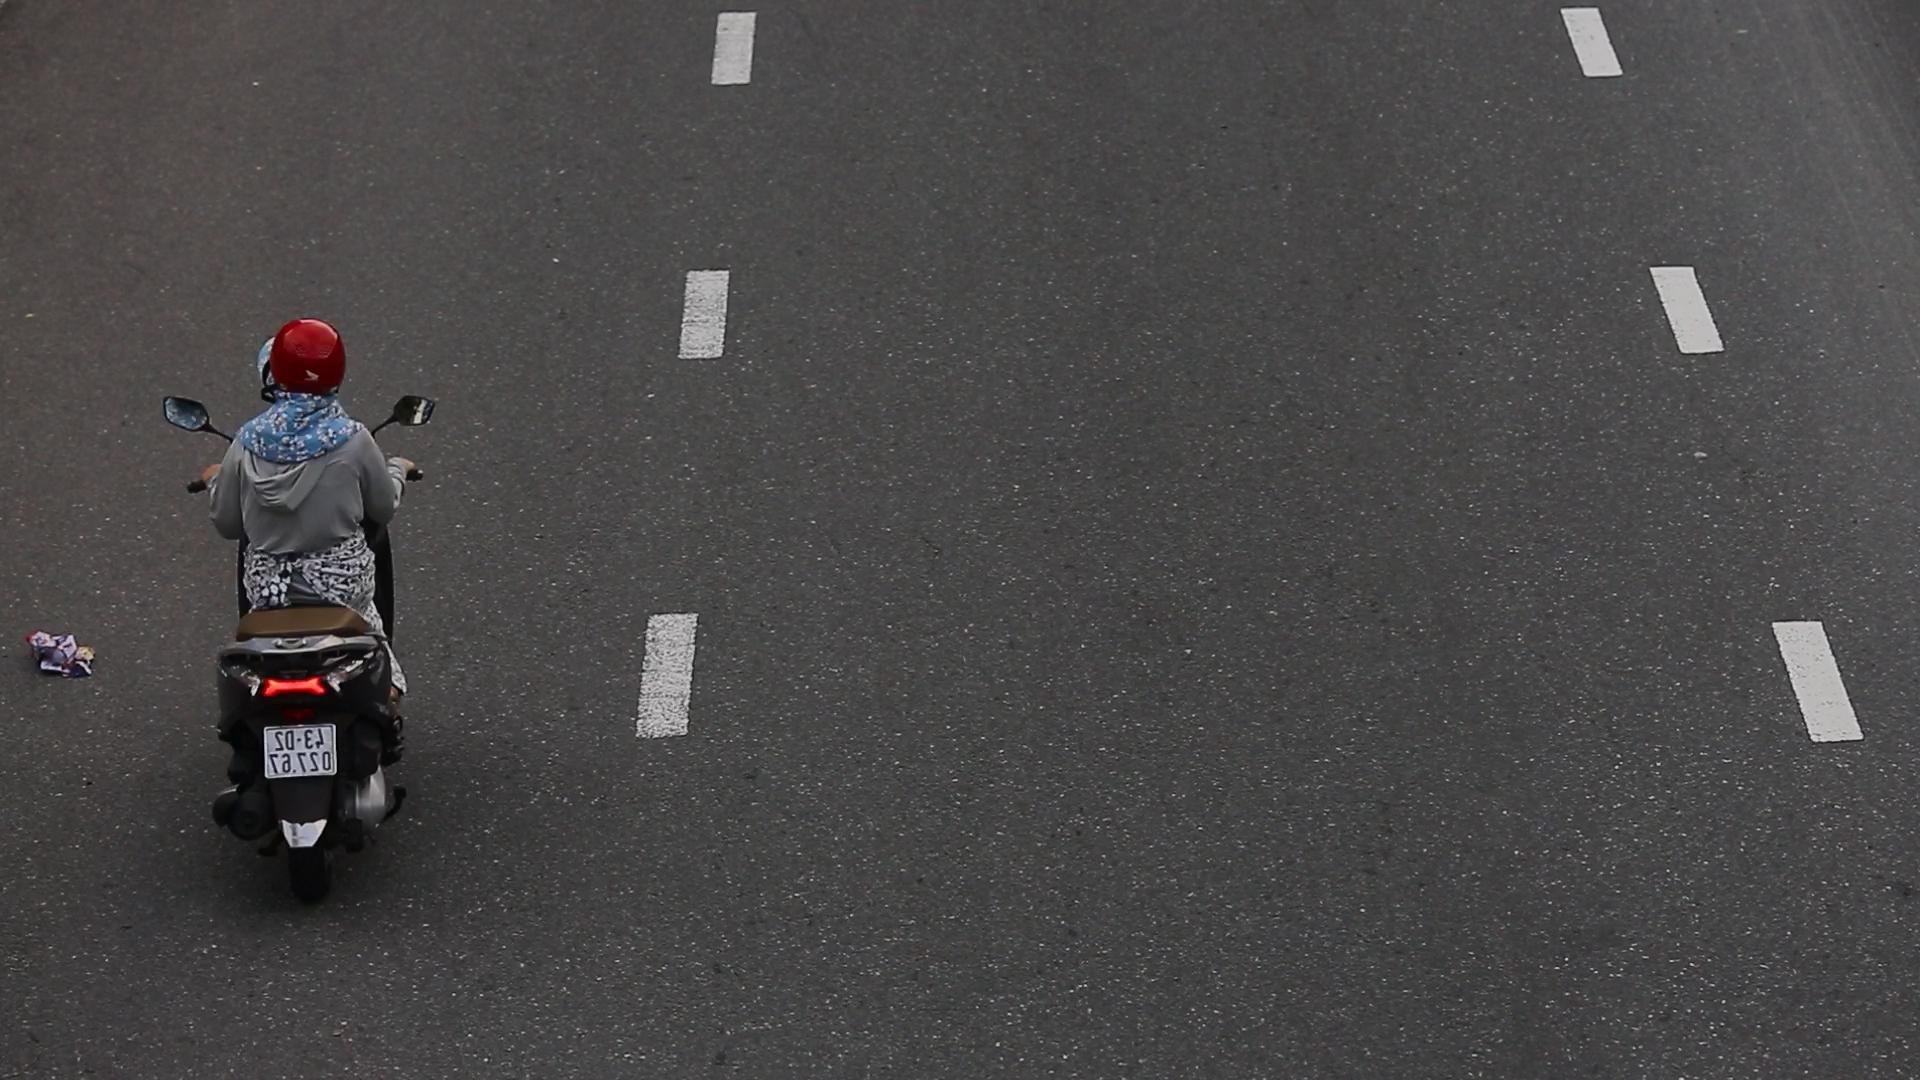motobike: (154, 303, 443, 913)
